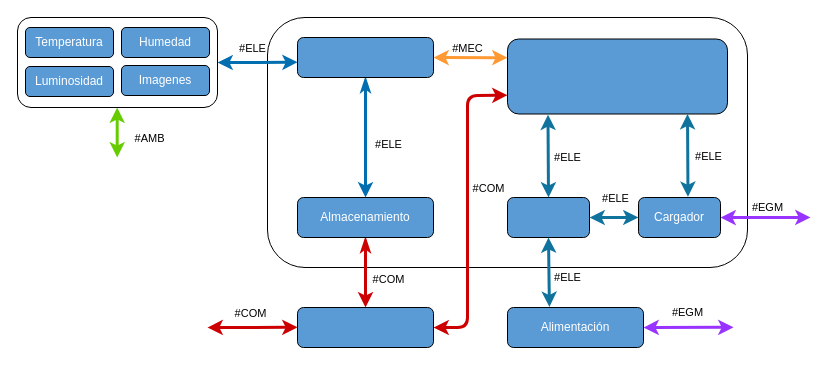
The diagram is 838 pixels wide and 365 high, and some of its shapes have lost their labels. The shapes that lost their labels are listed below. From the top down, each one's centre as x and y in pixels, then its label:
At point 365,57: "Sensores".
At point 617,76: "Unidad de Procesamiento".
At point 548,217: "Batería".
At point 365,327: "Comunicación".
